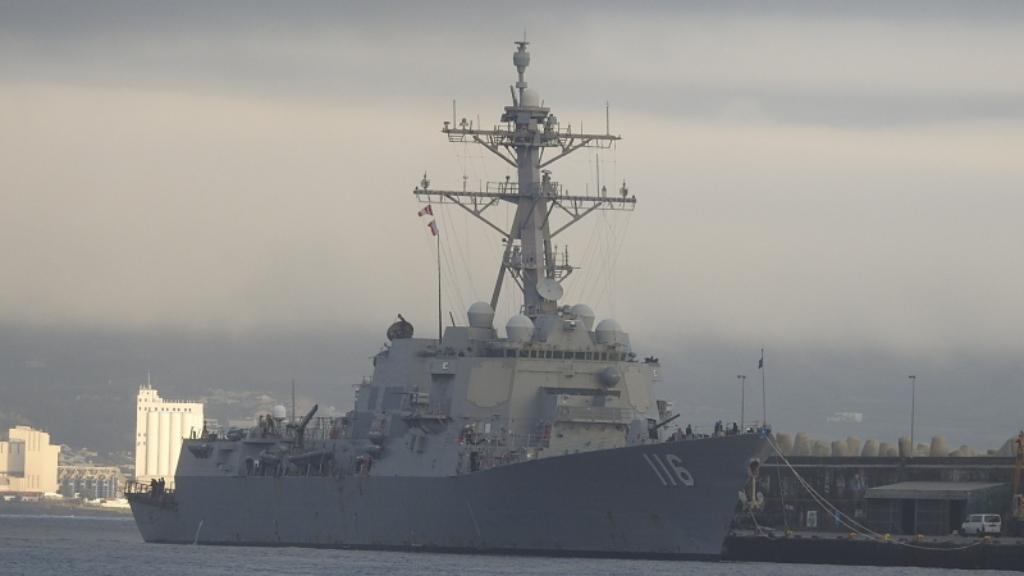Warship: (118, 24, 778, 564)
